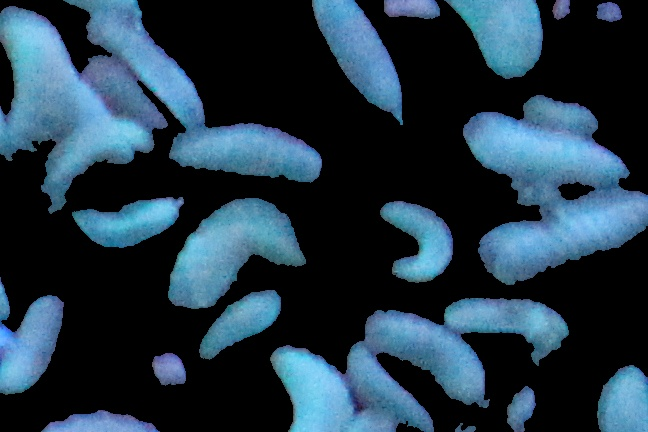larvae: (476, 171, 648, 290), (174, 198, 308, 312), (295, 1, 414, 127), (367, 300, 488, 402), (461, 109, 621, 182), (171, 118, 324, 185), (449, 1, 559, 83), (35, 123, 156, 195), (2, 6, 70, 133), (376, 189, 458, 287), (268, 334, 350, 432), (448, 284, 567, 349), (68, 195, 195, 254), (1, 294, 68, 405), (344, 345, 435, 422), (191, 297, 284, 357)
